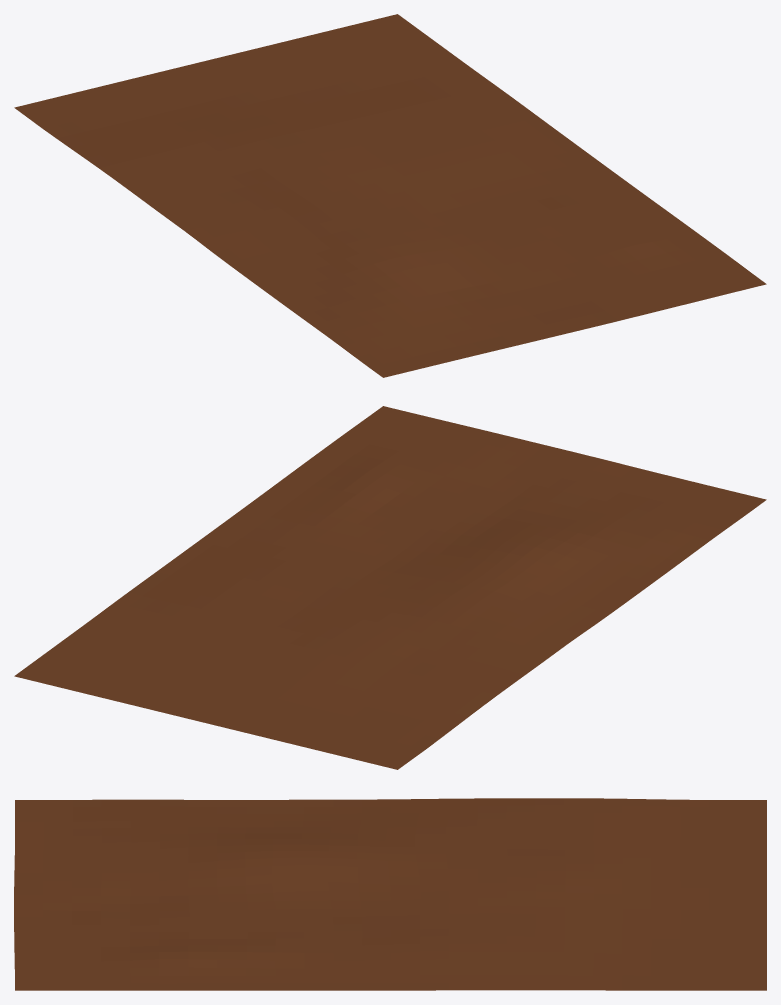
The model's file is Ground_3.fbx.
The picture shows the model from 3 angles, top to bottom: view 1: azimuth 30°, elevation 25°; view 2: azimuth 150°, elevation 25°; view 3: azimuth 270°, elevation 25°; orthographic projection.
Parts seen in each view (by area): view 1: Ground_3; view 2: Ground_3; view 3: Ground_3.
Part boxes in pixels (x1=…): Ground_3: x1=14, y1=14, x2=766, y2=377; Ground_3: x1=14, y1=406, x2=766, y2=769; Ground_3: x1=14, y1=798, x2=766, y2=990.
Bounding box in the file's own units: 601 × 12.59 × 1002.
